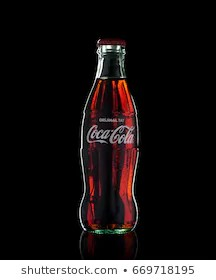coke-glass-bottle: (74, 30, 142, 239)
